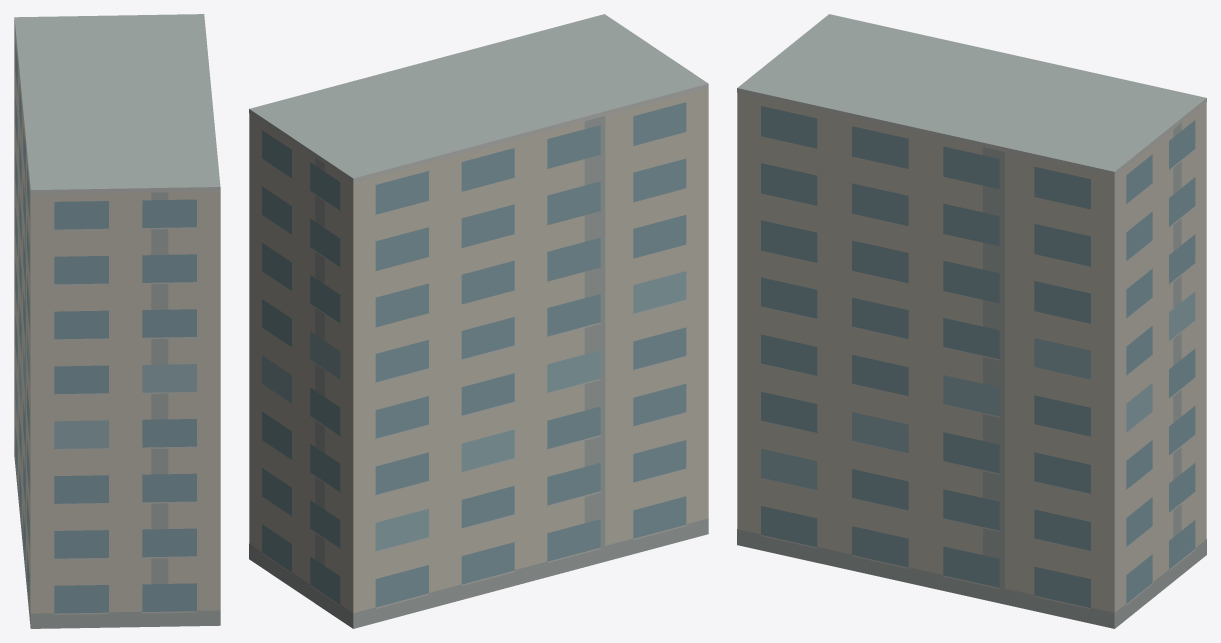
Rendered from residential-4b449086-4f99-4ca4-b8ff-0b594a41ed2b.glb.
3 views of the same model, side by side, from view 1: azimuth 30°, elevation 25°; view 2: azimuth 150°, elevation 25°; view 3: azimuth 270°, elevation 25° (orthographic). The views are drawn at different scales.
Visible parts, largest first — view 1: residential-4b449086-4f99-4ca4-b8ff-0b594a41ed2b.tmp; view 2: residential-4b449086-4f99-4ca4-b8ff-0b594a41ed2b.tmp; view 3: residential-4b449086-4f99-4ca4-b8ff-0b594a41ed2b.tmp.
Part boxes in pixels (box(x1,y1,x2,y2)): residential-4b449086-4f99-4ca4-b8ff-0b594a41ed2b.tmp: box(14, 14, 220, 628); residential-4b449086-4f99-4ca4-b8ff-0b594a41ed2b.tmp: box(249, 14, 708, 628); residential-4b449086-4f99-4ca4-b8ff-0b594a41ed2b.tmp: box(737, 14, 1206, 628).
Size of the model in its own units: 18.08 by 24.4 by 22.73.
